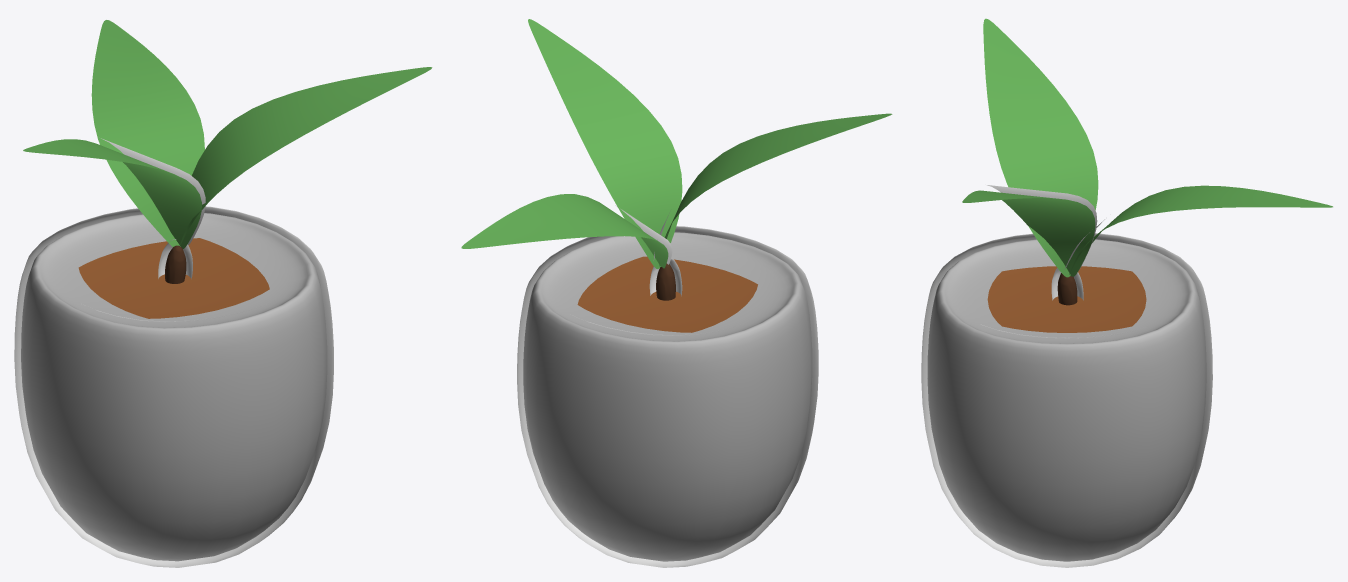
3 renders of one model, left to right at view 1: azimuth 30°, elevation 25°; view 2: azimuth 150°, elevation 25°; view 3: azimuth 270°, elevation 25°, orthographic. The views are drawn at different scales.
Parts seen in each view (by area): view 1: Plane.001; view 2: Plane.001; view 3: Plane.001.
Part boxes in pixels (x1,y1,x2,y2): Plane.001: [14, 20, 432, 567]; Plane.001: [461, 19, 892, 567]; Plane.001: [921, 18, 1332, 567].
Size of the model in its own units: 2.75 by 3.22 by 2.66.
